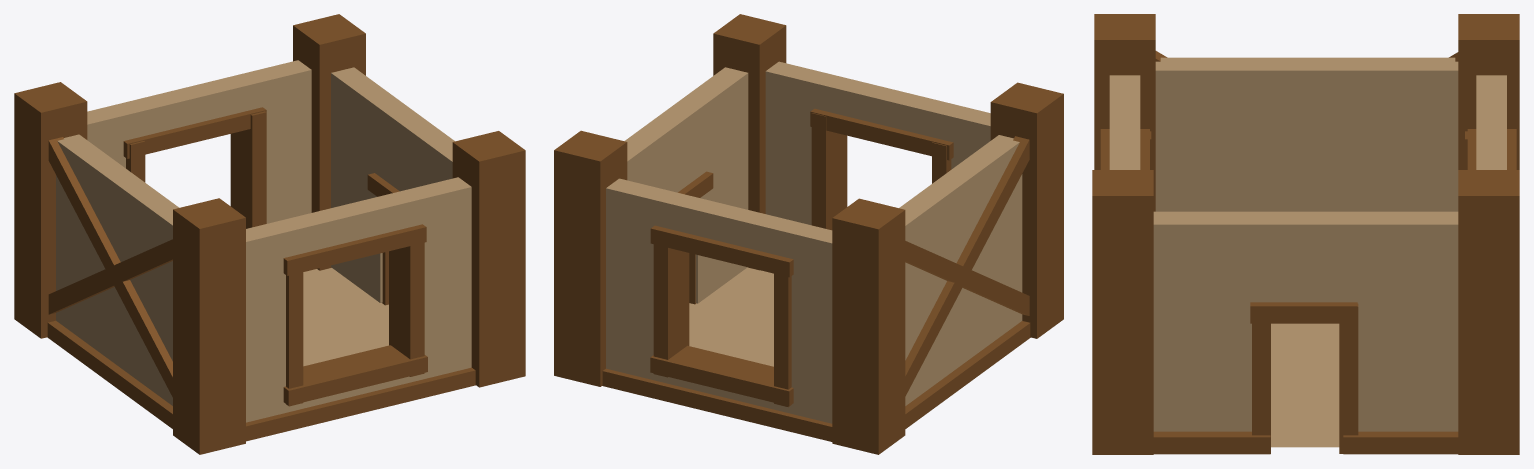
Rendered from BasicHouse2.fbx.
3 views of the same model, side by side, from view 1: azimuth 30°, elevation 25°; view 2: azimuth 150°, elevation 25°; view 3: azimuth 270°, elevation 25° (orthographic). The views are drawn at different scales.
Parts seen in each view (by area): view 1: Cube.001, poutre.002, Cube.002, Cube, poutre.004, Cube.003, poutre, Plane, poutre.001, poutre.009, poutre.003, poutre.011 (+8 smaller); view 2: Cube, poutre, Cube.002, Cube.001, poutre.001, Cube.003, poutre.002, Plane, poutre.004, poutre.008, poutre.005, poutre.016 (+9 smaller); view 3: Cube.003, Cube.002, poutre.001, poutre.004, Plane, poutre.002, poutre, poutre.007, Cube.001, Cube, poutre.020, poutre.018 (+3 smaller).
Boxes of the visible parts, x1=… form: Cube.001: x1=246, y1=177, x2=471, y2=422; poutre.002: x1=173, y1=198, x2=245, y2=454; Cube.002: x1=56, y1=134, x2=179, y2=405; Cube: x1=87, y1=60, x2=311, y2=223; poutre.004: x1=452, y1=131, x2=525, y2=387; Cube.003: x1=331, y1=67, x2=454, y2=302; poutre: x1=14, y1=82, x2=87, y2=338; Plane: x1=303, y1=268, x2=388, y2=366; poutre.001: x1=293, y1=14, x2=365, y2=270; poutre.009: x1=48, y1=137, x2=172, y2=397; poutre.003: x1=246, y1=367, x2=475, y2=441; poutre.011: x1=283, y1=345, x2=427, y2=405; Cube: x1=606, y1=178, x2=832, y2=423; poutre: x1=832, y1=198, x2=905, y2=454; Cube.002: x1=899, y1=135, x2=1022, y2=405; Cube.001: x1=765, y1=61, x2=990, y2=225; poutre.001: x1=554, y1=130, x2=627, y2=386; Cube.003: x1=624, y1=67, x2=748, y2=303; poutre.002: x1=990, y1=82, x2=1063, y2=338; Plane: x1=689, y1=267, x2=773, y2=366; poutre.004: x1=713, y1=14, x2=786, y2=270; poutre.008: x1=905, y1=136, x2=1029, y2=396; poutre.005: x1=602, y1=368, x2=832, y2=441; poutre.016: x1=650, y1=345, x2=793, y2=406; Cube.003: x1=1153, y1=211, x2=1458, y2=431; Cube.002: x1=1155, y1=57, x2=1458, y2=211; poutre.001: x1=1458, y1=170, x2=1519, y2=454; poutre.004: x1=1092, y1=170, x2=1153, y2=454; Plane: x1=1271, y1=323, x2=1339, y2=447; poutre.002: x1=1094, y1=14, x2=1155, y2=211; poutre: x1=1458, y1=14, x2=1519, y2=169; poutre.007: x1=1153, y1=431, x2=1458, y2=454; Cube.001: x1=1109, y1=75, x2=1140, y2=169; Cube: x1=1476, y1=75, x2=1506, y2=169; poutre.020: x1=1339, y1=304, x2=1358, y2=453; poutre.018: x1=1250, y1=302, x2=1357, y2=323.
Size of the model in its own units: 1402 by 939 by 1392.
